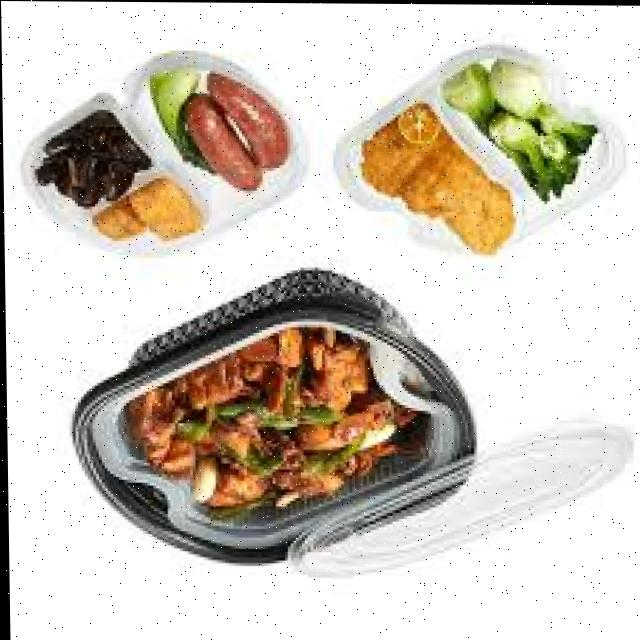disposable: (34, 269, 492, 579)
